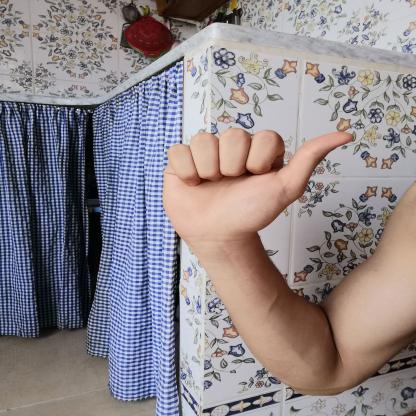DAD: (150, 121, 366, 253)
